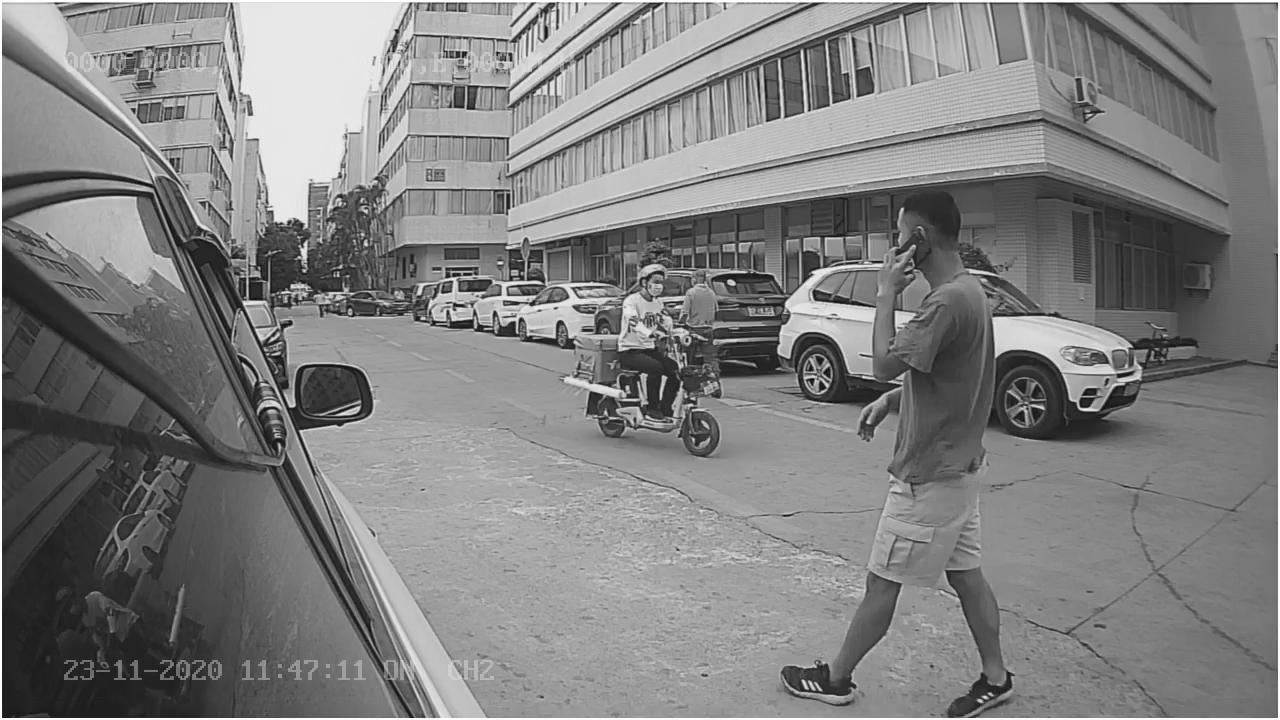person: (779, 181, 1016, 720), (612, 258, 682, 339)
